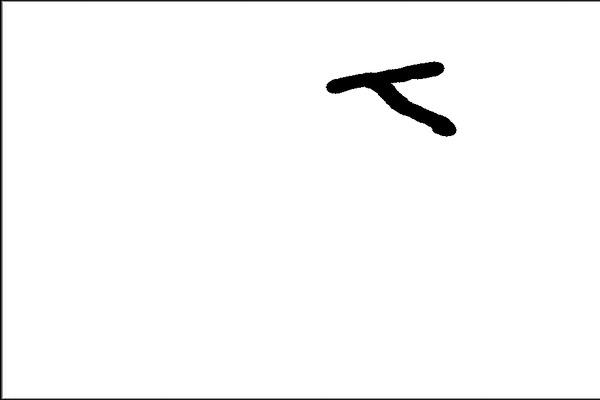T: (312, 56, 462, 142)
